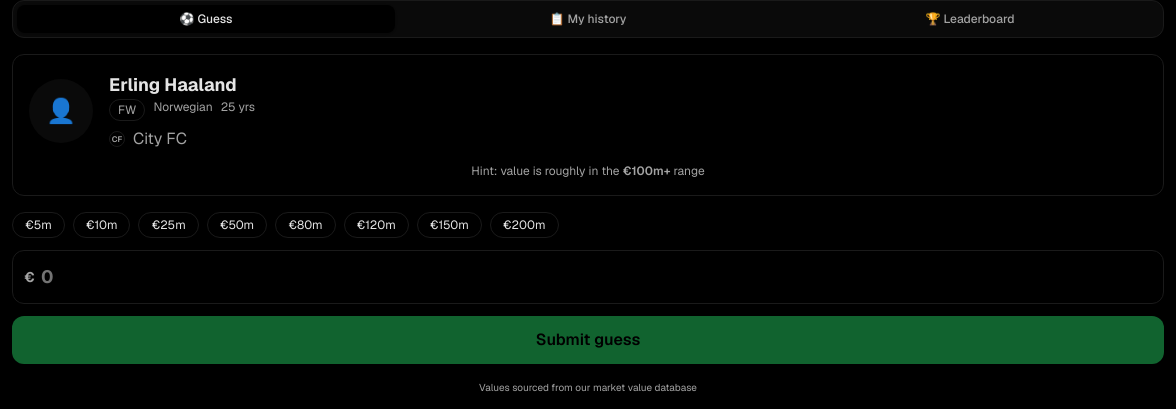
Scenario: ValueQuizContent › switches to leaderboard tab and shows rankings
This screenshot has width=1176, height=409.
Click the button "🏆 Leaderboard": point(970, 19) [781,5,1159,33]
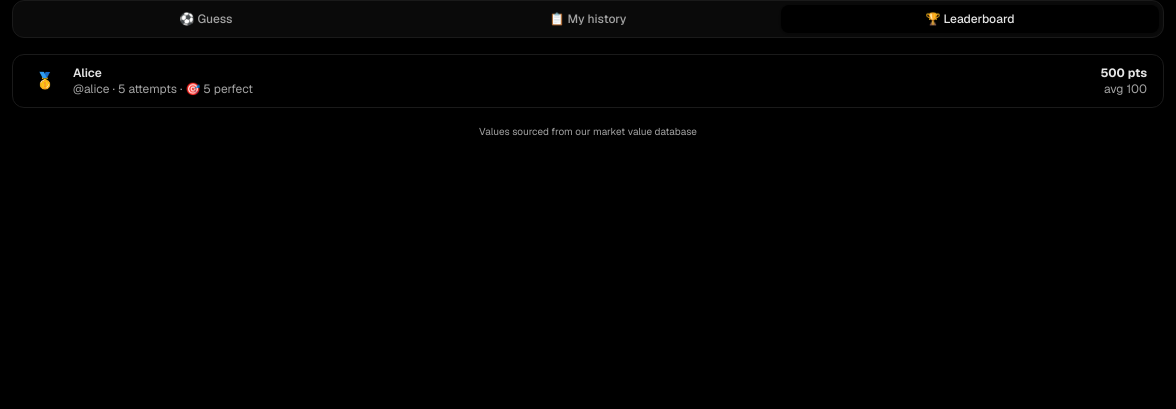
Check: the text "Alice" is shown, box [73,65,102,81]
Check: the text "500 pts" is shown, box [1100,65,1147,81]
Check: the text "🥇" is shown, box [35,70,55,91]
